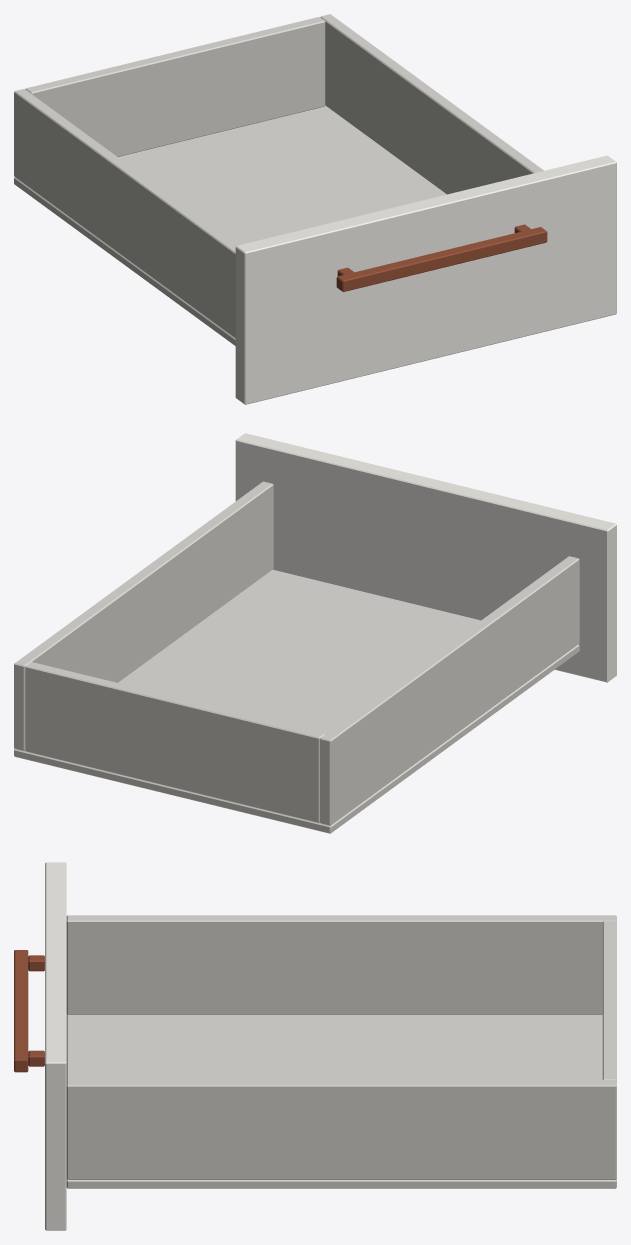
Rendered from kitchen_run_appliances_compact_b4_top_drawer.glb.
3 renders of one model, top to bottom at view 1: azimuth 30°, elevation 25°; view 2: azimuth 150°, elevation 25°; view 3: azimuth 270°, elevation 25°, orthographic. The views are drawn at different scales.
Visible parts, largest first — view 1: kitchen_run_appliances_compact_b4_top_drawer; view 2: kitchen_run_appliances_compact_b4_top_drawer; view 3: kitchen_run_appliances_compact_b4_top_drawer.
Part boxes in pixels (<box>): kitchen_run_appliances_compact_b4_top_drawer: <box>14,14,616,404</box>; kitchen_run_appliances_compact_b4_top_drawer: <box>14,433,616,833</box>; kitchen_run_appliances_compact_b4_top_drawer: <box>14,862,616,1230</box>.
Size of the model in its own units: 0.397 by 0.1554 by 0.504.
